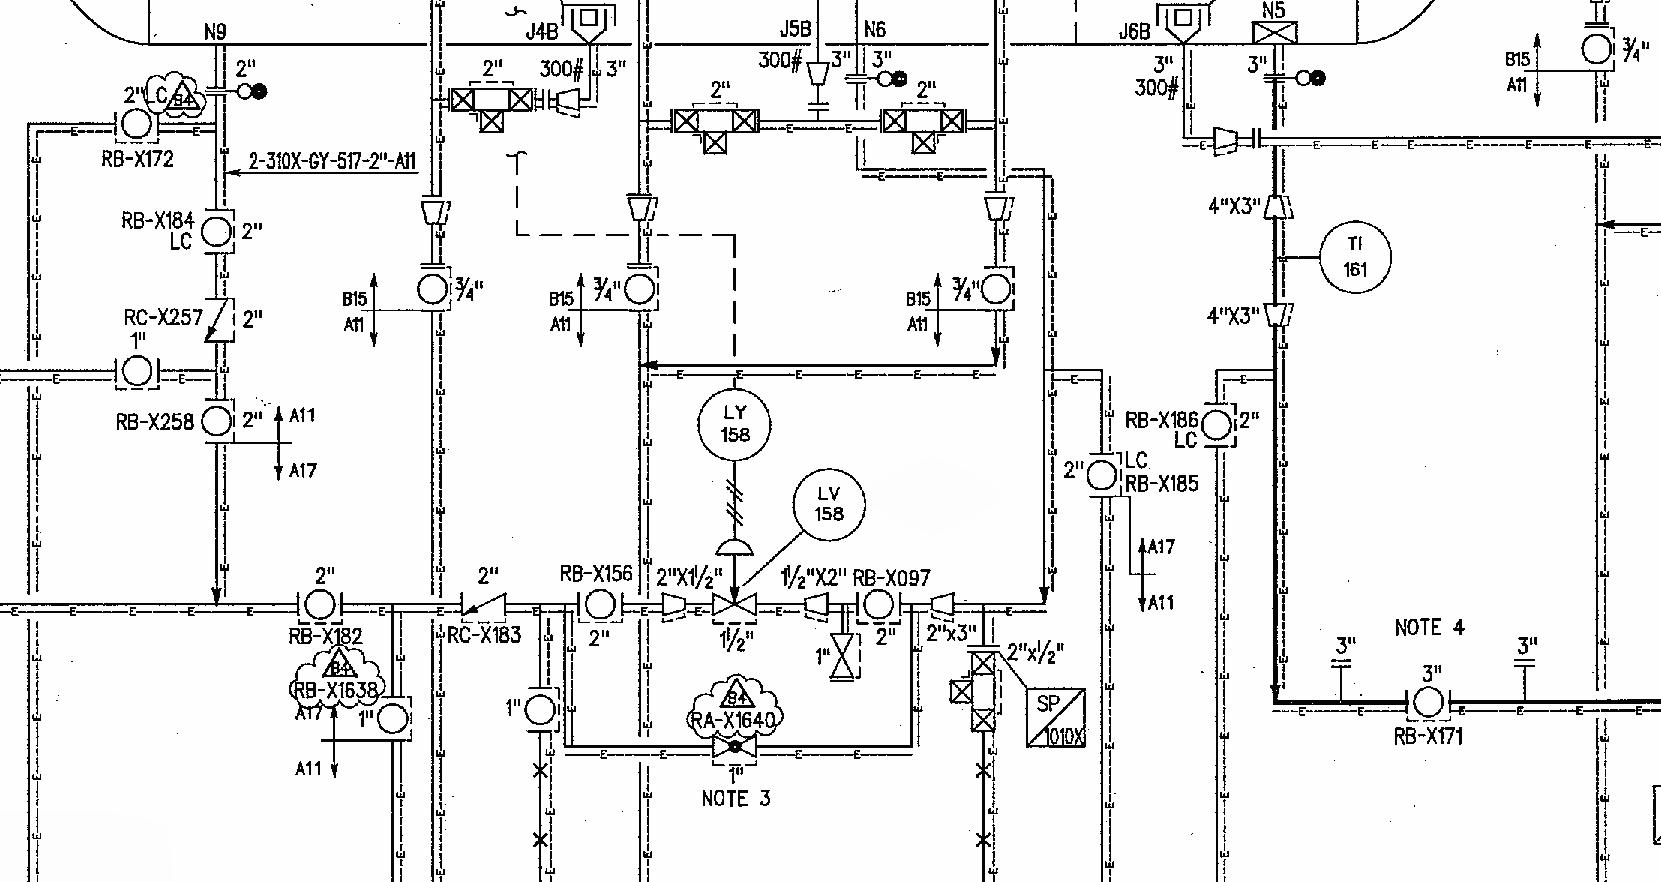2 WAY VALVE: (441, 76, 540, 143), (873, 97, 971, 157), (670, 102, 770, 160), (944, 648, 1003, 739)
CONCENTRIC REDUCER: (412, 196, 457, 238), (547, 81, 587, 127), (616, 190, 662, 227), (1258, 292, 1297, 332), (1260, 190, 1296, 226), (978, 189, 1015, 224), (801, 588, 836, 624), (1208, 124, 1241, 157), (799, 60, 835, 90), (928, 590, 960, 622), (658, 591, 690, 619)
DIAPHRAGM ACTUATED VALVE: (705, 537, 758, 625)
END FLANGED: (1246, 120, 1270, 156), (1503, 652, 1548, 669), (1317, 652, 1361, 665)
FIELD INSTRUMENT: (689, 383, 778, 466), (1313, 215, 1400, 298), (791, 462, 869, 547), (519, 689, 569, 732), (858, 582, 905, 626), (414, 266, 457, 314), (578, 585, 627, 626), (114, 103, 161, 144), (1407, 682, 1453, 723), (298, 585, 344, 624), (979, 263, 1016, 310), (1081, 454, 1122, 496), (1576, 27, 1616, 71), (372, 695, 411, 740), (1196, 401, 1235, 445), (115, 351, 161, 388), (197, 211, 238, 250), (617, 269, 658, 309), (197, 400, 234, 443)
GATE VALVE: (705, 724, 765, 769), (823, 634, 867, 679)
REVISION TRIANGLE: (159, 75, 207, 119), (722, 671, 756, 716), (319, 649, 360, 682)
SPECIAL PIPING ITEM: (1022, 684, 1093, 758)
SPECTACLE BLIND OPEN: (207, 74, 275, 105), (841, 63, 912, 93), (1260, 66, 1335, 94)
